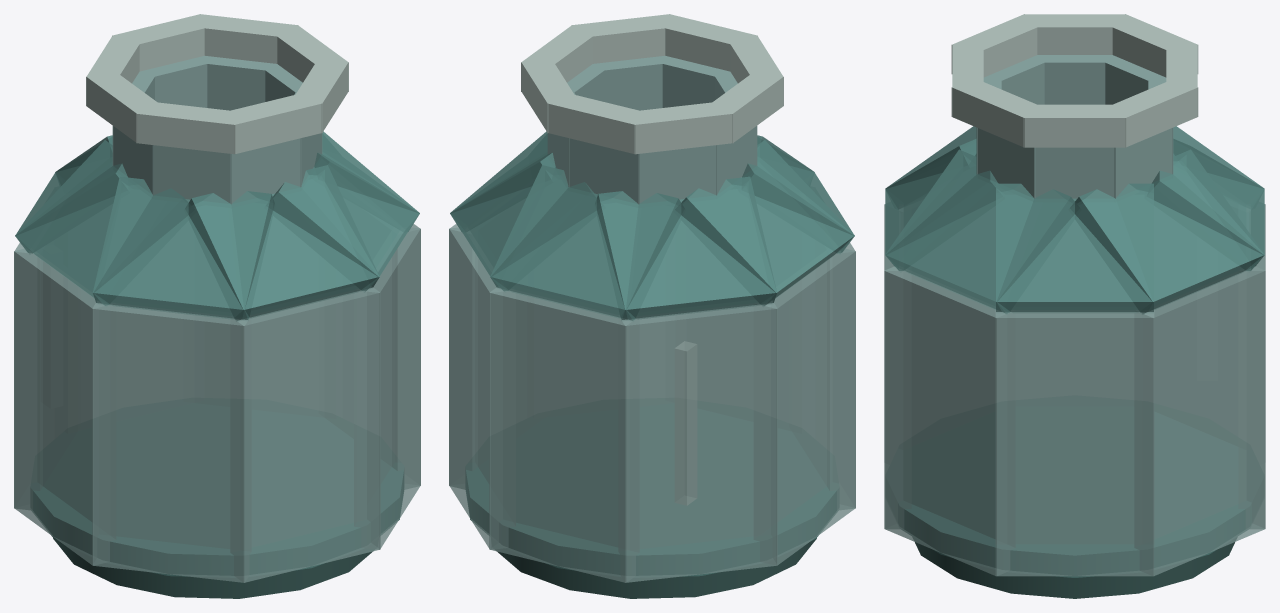
Rendered from CMU3DBottleEmptyCloud.glb.
The picture shows the model from 3 angles, left to right: view 1: azimuth 30°, elevation 25°; view 2: azimuth 150°, elevation 25°; view 3: azimuth 270°, elevation 25°; orthographic projection.
Visible parts, largest first — view 1: hollow bottle wall 06, bottom glass welt, hollow bottle wall 07, hollow bottle wall 05, inward glass shoulder 06, inward glass shoulder 07, hollow bottle wall 08, inward glass shoulder 05, inward glass shoulder 08, hollow bottle wall 01, hollow bottle wall 02, hollow bottle wall 04 (+20 smaller); view 2: hollow bottle wall 04, hollow bottle wall 03, bottom glass welt, hollow bottle wall 05, inward glass shoulder 04, inward glass shoulder 03, hollow bottle wall 02, inward glass shoulder 05, inward glass shoulder 02, hollow bottle wall 01, hollow bottle wall 06, hollow bottle wall 08 (+21 smaller); view 3: bottom glass welt, hollow bottle wall 01, hollow bottle wall 02, hollow bottle wall 08, inward glass shoulder 01, inward glass shoulder 02, inward glass shoulder 08, hollow bottle wall 06, hollow bottle wall 05, hollow bottle wall 04, inward glass shoulder 03, inward glass shoulder 07 (+19 smaller).
Part boxes in pixels (x1,y1,x2,y2): hollow bottle wall 06: [92, 303, 251, 582]; bottom glass welt: [31, 403, 403, 577]; hollow bottle wall 07: [230, 287, 380, 582]; hollow bottle wall 05: [14, 248, 115, 565]; inward glass shoulder 06: [92, 176, 274, 320]; inward glass shoulder 07: [185, 165, 379, 321]; hollow bottle wall 08: [354, 228, 420, 549]; inward glass shoulder 05: [15, 140, 194, 306]; inward glass shoulder 08: [266, 131, 419, 292]; hollow bottle wall 01: [343, 224, 420, 489]; hollow bottle wall 02: [205, 303, 317, 409]; hollow bottle wall 04: [14, 243, 53, 510]; hollow bottle wall 04: [618, 302, 777, 582]; hollow bottle wall 03: [489, 287, 639, 582]; bottom glass welt: [466, 403, 838, 577]; hollow bottle wall 05: [754, 248, 855, 565]; inward glass shoulder 04: [595, 176, 777, 320]; inward glass shoulder 03: [490, 165, 684, 321]; hollow bottle wall 02: [449, 228, 515, 549]; inward glass shoulder 05: [675, 140, 854, 306]; inward glass shoulder 02: [450, 131, 603, 292]; hollow bottle wall 01: [449, 224, 526, 489]; hollow bottle wall 06: [816, 243, 855, 510]; hollow bottle wall 08: [552, 303, 664, 409]; bottom glass welt: [898, 406, 1251, 577]; hollow bottle wall 01: [995, 310, 1154, 576]; hollow bottle wall 02: [1134, 266, 1265, 576]; hollow bottle wall 08: [884, 266, 1015, 576]; inward glass shoulder 01: [996, 183, 1153, 312]; inward glass shoulder 02: [1070, 149, 1264, 314]; inward glass shoulder 08: [885, 149, 1079, 314]; hollow bottle wall 06: [884, 204, 994, 435]; hollow bottle wall 05: [1016, 314, 1133, 399]; hollow bottle wall 04: [1155, 204, 1265, 435]; inward glass shoulder 03: [1147, 126, 1264, 271]; inward glass shoulder 07: [885, 126, 1002, 271].
Size of the model in its own units: 0.3387 by 0.453 by 0.3387.
